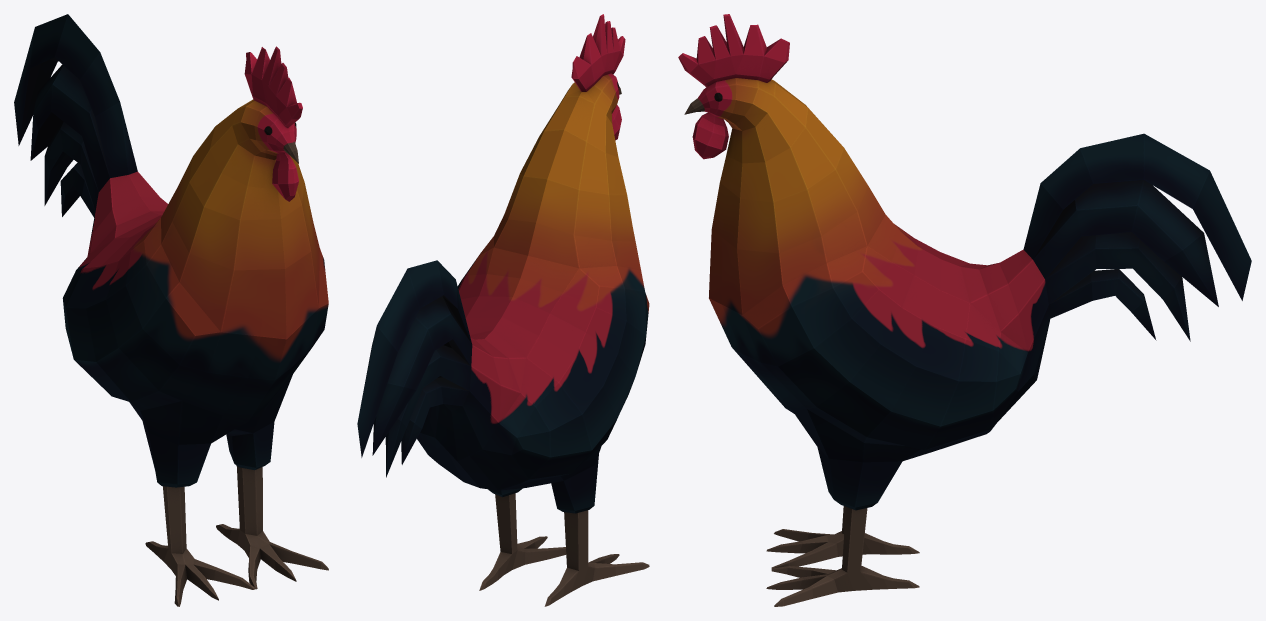
The model's file is Rooster(1).gltf.
3 views of the same model, side by side, from view 1: azimuth 30°, elevation 25°; view 2: azimuth 150°, elevation 25°; view 3: azimuth 270°, elevation 25° (orthographic). The views are drawn at different scales.
Visible parts, largest first — view 1: node-0; view 2: node-0; view 3: node-0.
Boxes of the visible parts, x1,y1,x2,y2 form: node-0: [14, 14, 328, 606]; node-0: [357, 14, 649, 606]; node-0: [678, 14, 1251, 606].
Bounding box in the file's own units: 1.29 × 3.47 × 3.24.
Materials: 1 (1 with a texture image).
